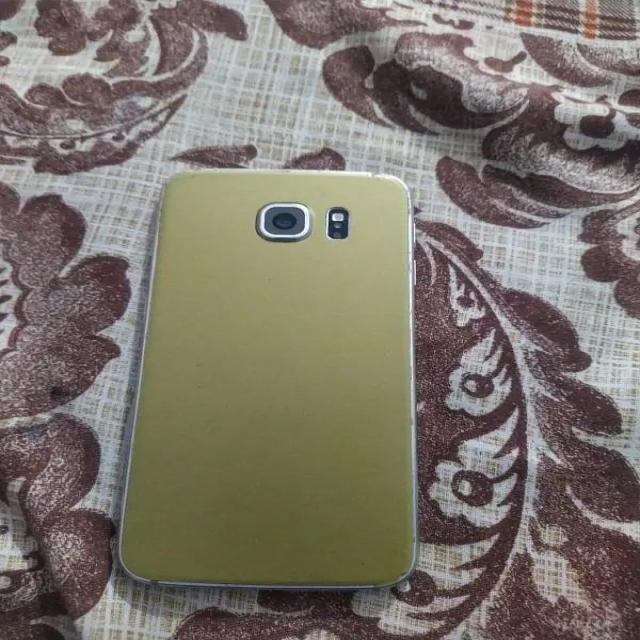electronic: (112, 168, 419, 590)
